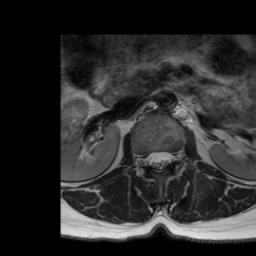CCS_normal: (156, 142, 164, 177)
LFS_normal: (173, 141, 181, 169)
LLS_normal: (164, 142, 173, 172)
RFS_normal: (138, 143, 147, 175)
RLS_normal: (147, 143, 156, 172)
